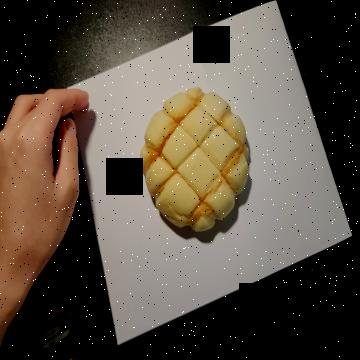melon_bread: (139, 85, 251, 237)
